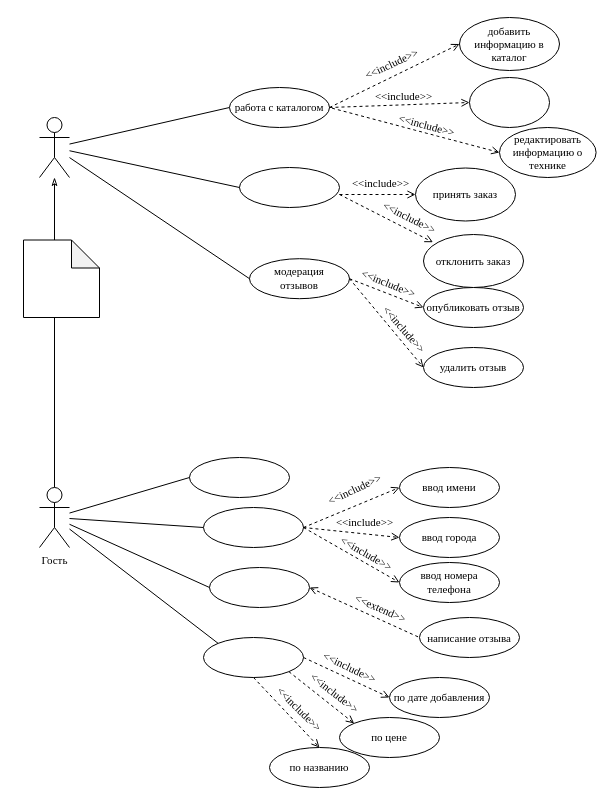
The diagram is 614 pixels wide and 805 high, and some of its shapes have lost their labels. The shapes that lost their labels are listed below. From the top down, each one's centre as x and y in pixels, then its label:
At (509,102): "удалить информацию в каталоге".
At (54,147): "Администратор".
At (289,187): "действия с заказом".
At (61,278): "доступно после авторизации".
At (239,477): "просмотр сайта".
At (253,527): "оформление заказа".
At (259,587): "просмотр отзывов".
At (253,657): "сортировка товаров в каталоге".
